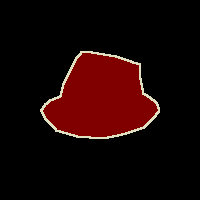hat: (41, 52, 159, 138)
